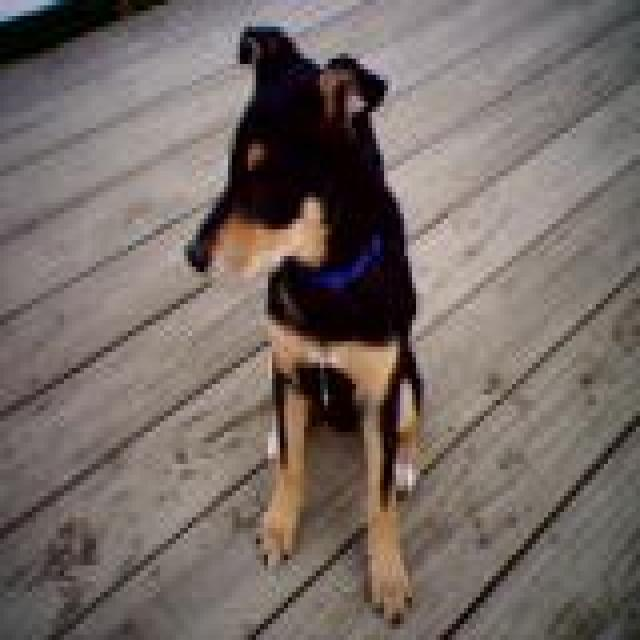Dogs: (180, 21, 424, 624)
